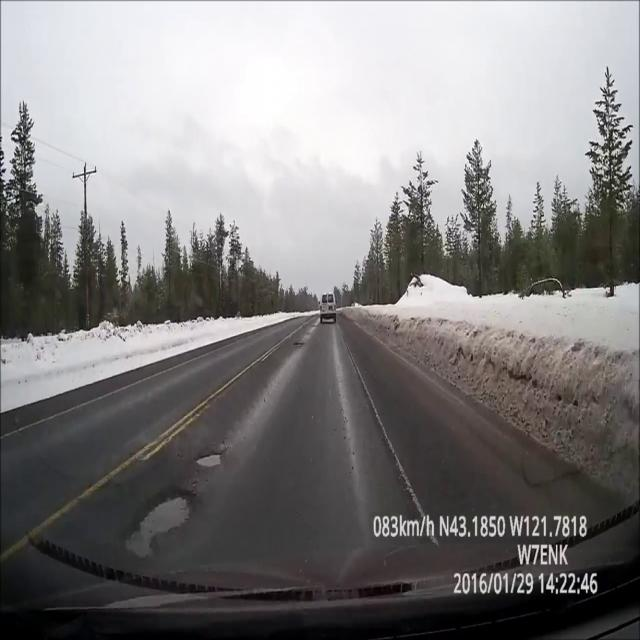Pothole: (121, 486, 202, 561), (196, 448, 225, 470), (293, 340, 306, 347), (310, 324, 320, 327), (306, 330, 311, 334)
